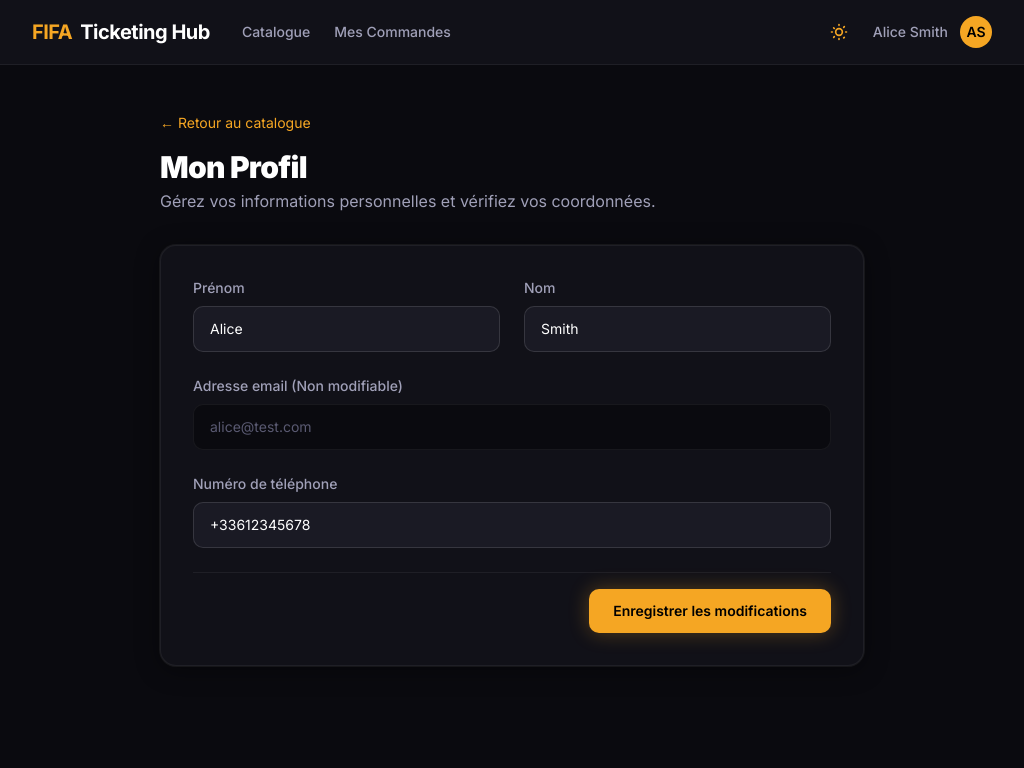
Scenario: ProfilePage Component › handles form submission successfully
The width and height of the screenshot is (1024, 768).
Step 1. Replace the text in the field labelled "Prénom" with "Alice Updated" → [346, 329], box [193,306,500,352]
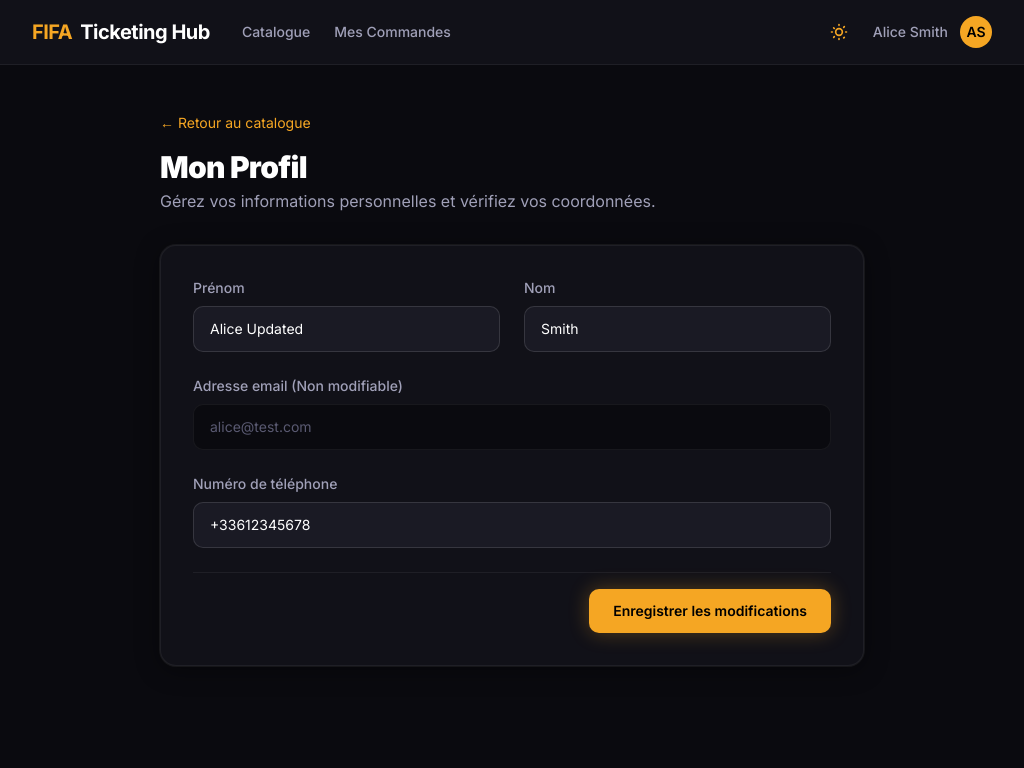
Step 2. Replace the text in the field labelled "Nom" with "Smith Updated" → [678, 329], box [524,306,831,352]
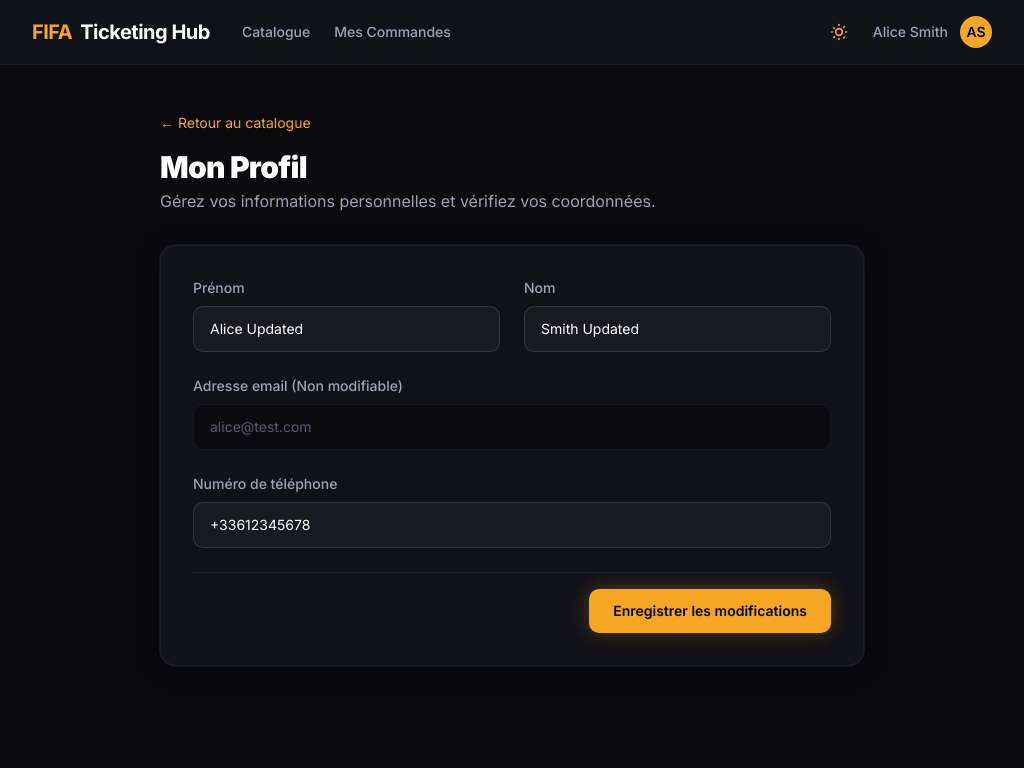
Step 3. Replace the text in the field labelled "Numéro de téléphone" with "+33699999999" → [512, 525], box [193,502,831,548]
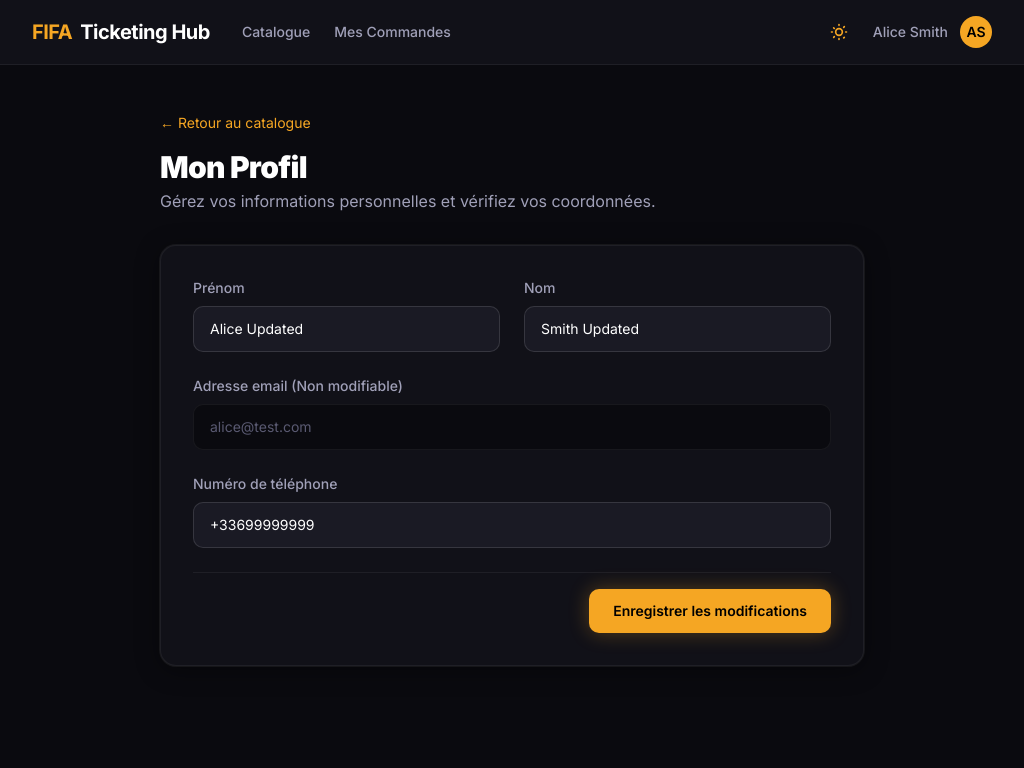
Step 4. Click the button "Enregistrer les modifications" → [710, 611], box [589,589,831,633]
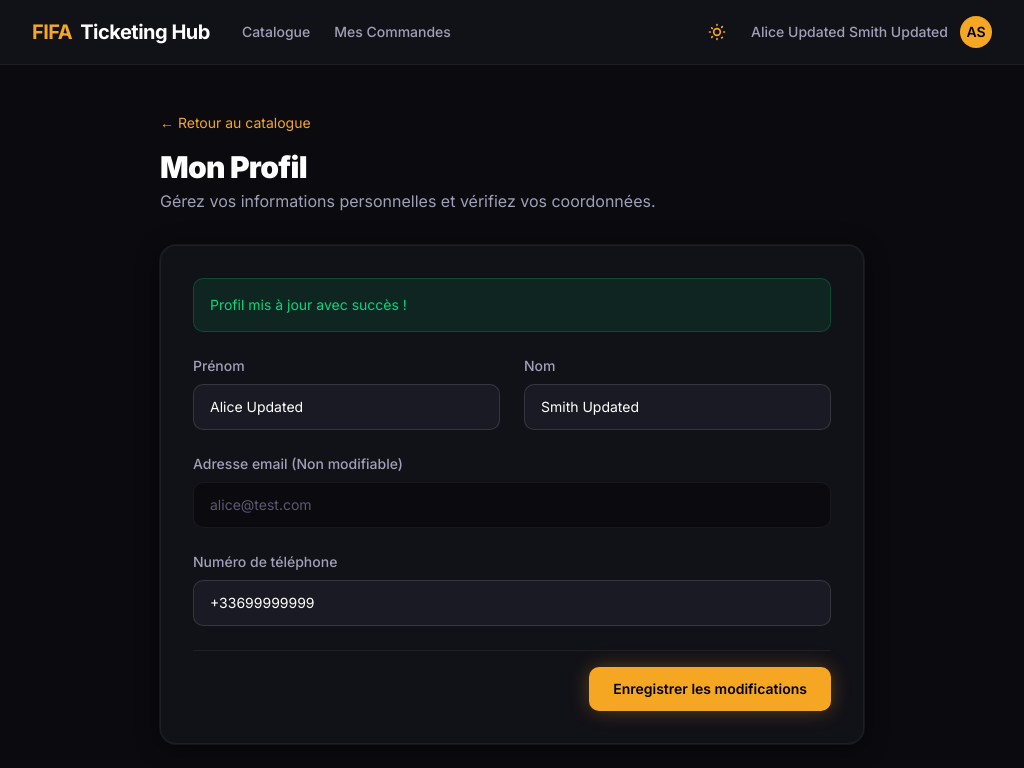
Expected: the text "Profil mis à jour avec succès !" is shown, [193,278,831,332]
